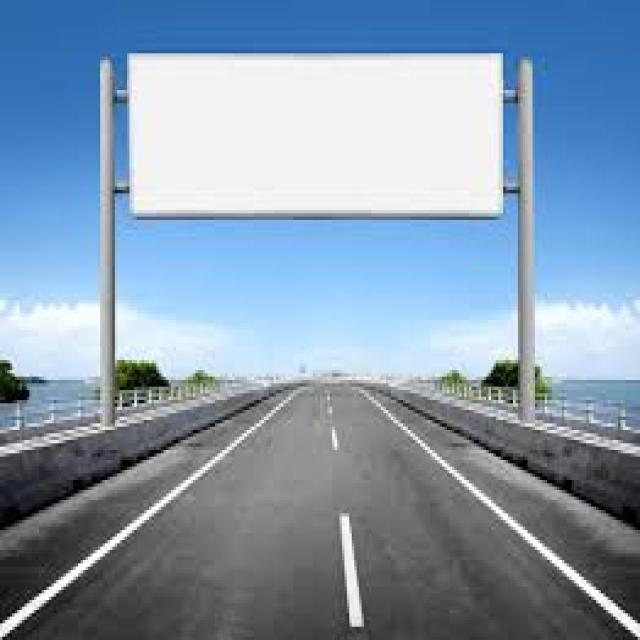Billboard_overhead: (120, 39, 516, 233)
Roadcorner: (6, 384, 302, 626), (372, 391, 638, 637)
Roadlane: (314, 396, 391, 637)
